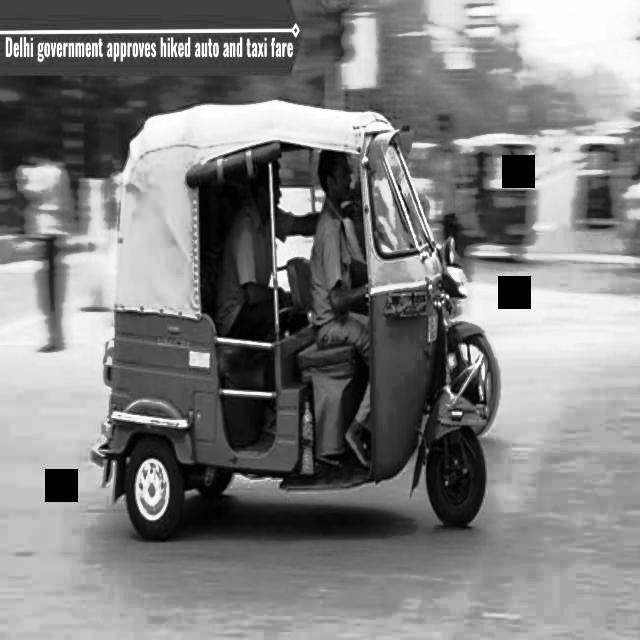Auto-Rickshaw: (119, 102, 499, 560)
